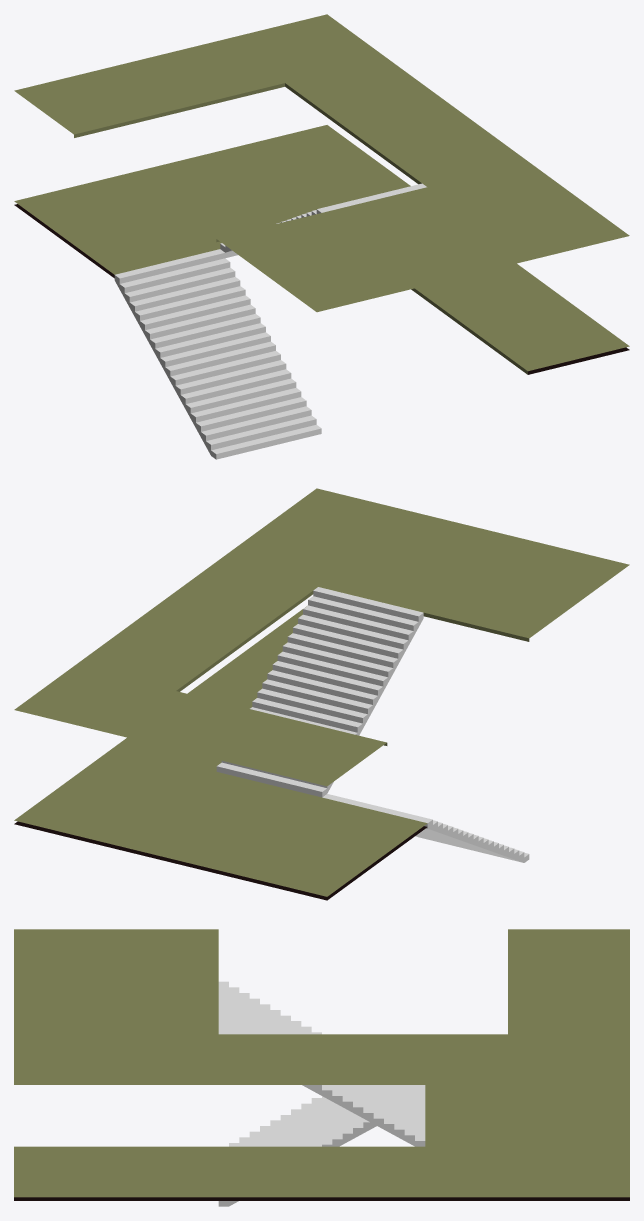
Rendered from Building001_Stairs.FBX.
3 renders of one model, top to bottom at view 1: azimuth 30°, elevation 25°; view 2: azimuth 150°, elevation 25°; view 3: azimuth 270°, elevation 25°, orthographic.
Visible parts, largest first — view 1: StairsLanding001, StairsLanding, Stairs, Stairs001; view 2: StairsLanding001, StairsLanding, Stairs001, Stairs; view 3: StairsLanding001, StairsLanding, Stairs001, Stairs.
Part boxes in pixels (x1=…): StairsLanding001: x1=14, y1=14, x2=629, y2=312; StairsLanding: x1=14, y1=125, x2=629, y2=374; Stairs: x1=114, y1=249, x2=321, y2=459; Stairs001: x1=220, y1=183, x2=426, y2=258; StairsLanding001: x1=14, y1=488, x2=629, y2=786; StairsLanding: x1=14, y1=606, x2=427, y2=900; Stairs001: x1=216, y1=587, x2=423, y2=797; Stairs: x1=322, y1=794, x2=529, y2=862; StairsLanding001: x1=14, y1=929, x2=629, y2=1084; StairsLanding: x1=14, y1=1085, x2=629, y2=1200; Stairs001: x1=218, y1=981, x2=425, y2=1146; Stairs: x1=218, y1=1085, x2=425, y2=1206.
Size of the model in its own units: 350 by 236 by 587.
